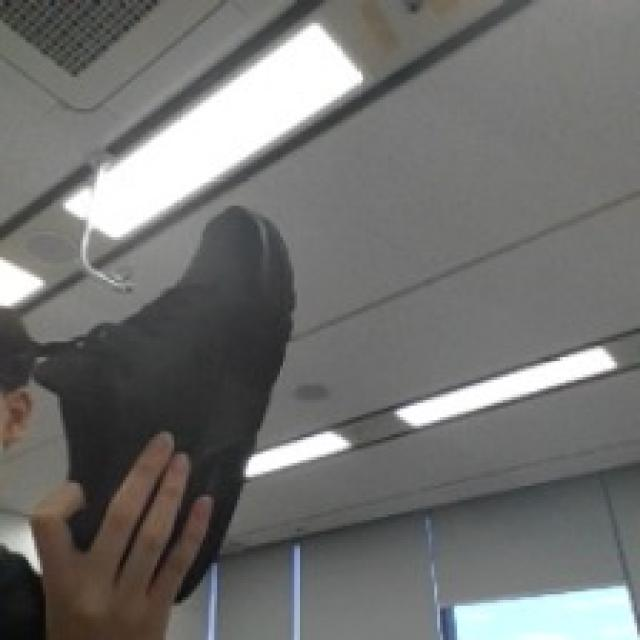shoe: (61, 163, 318, 560)
